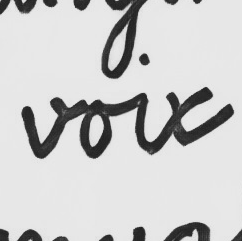i: (132, 50, 154, 153)
o: (76, 98, 115, 160)
v: (19, 96, 68, 162)
x: (155, 84, 216, 147)
